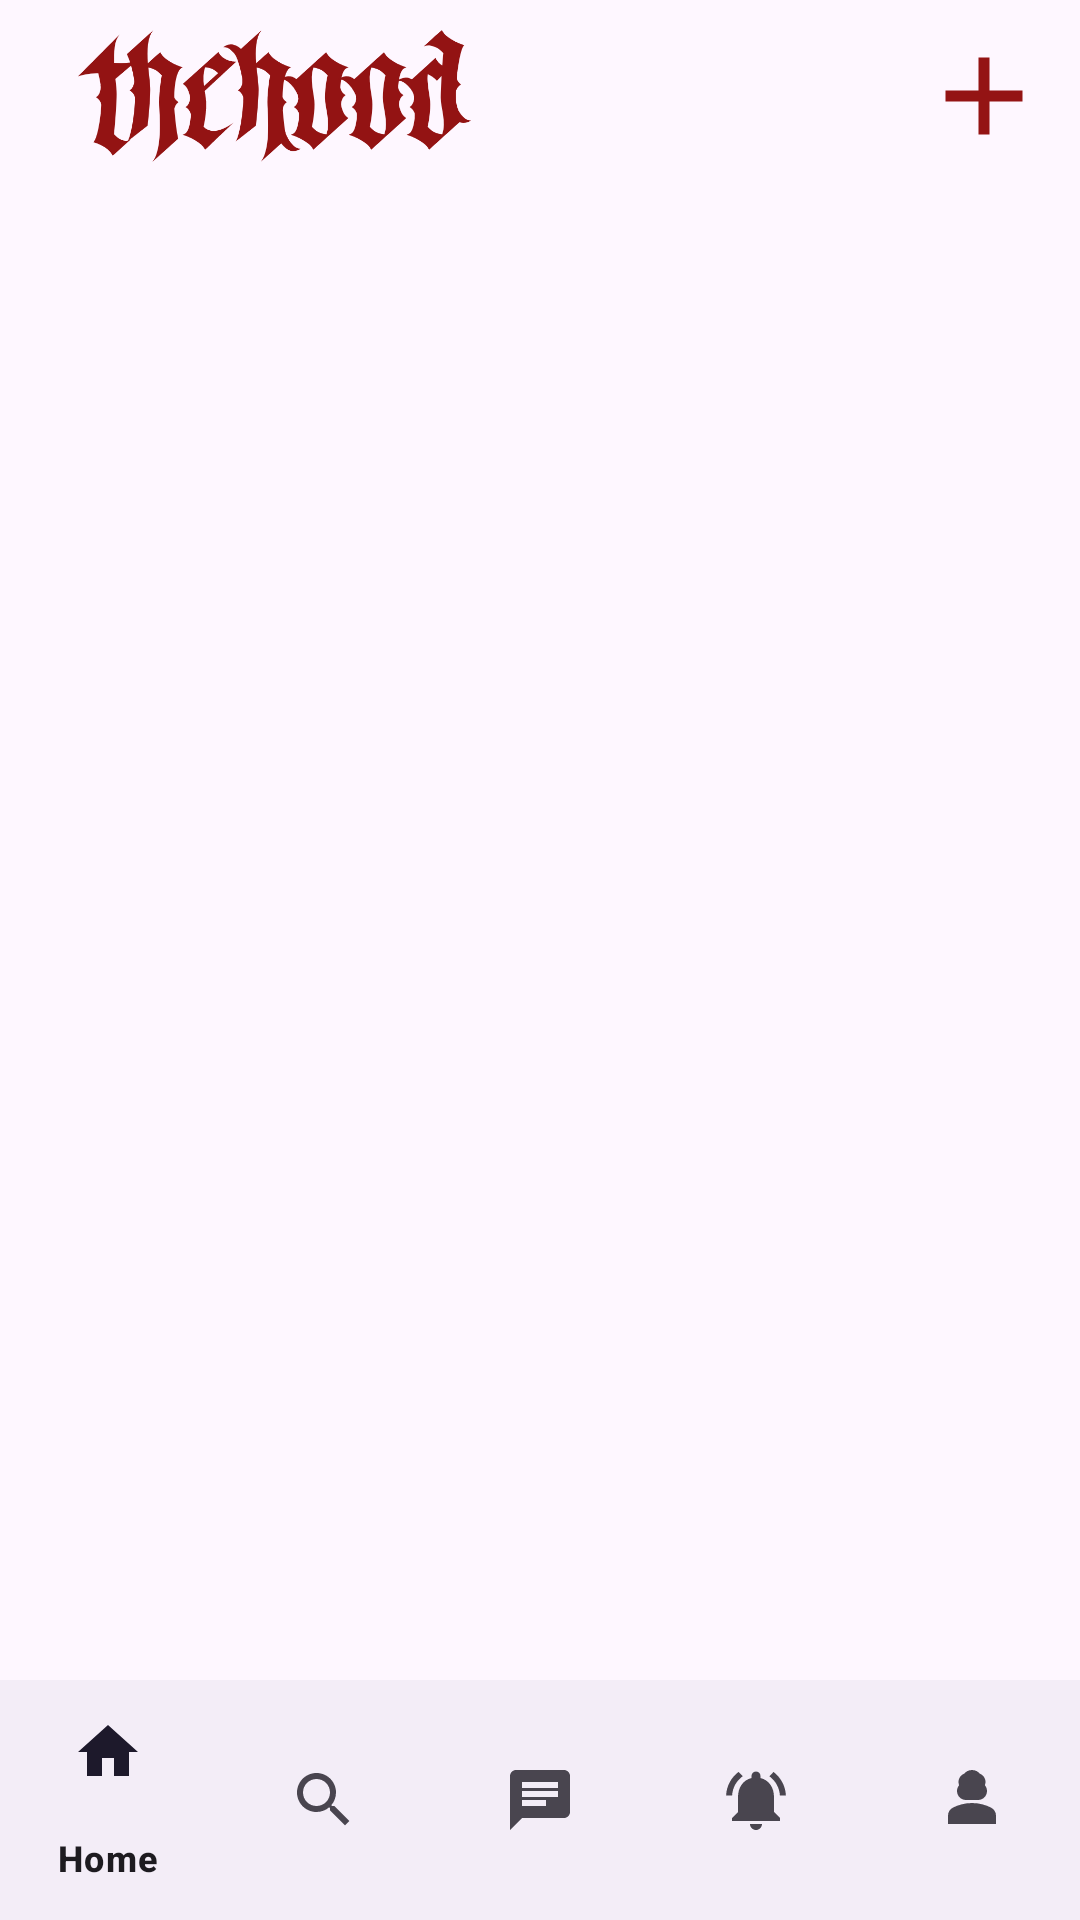

Point at icon controls on the screen. Image size 1080×1920, points as point (x, y).
add: point (984, 96)
